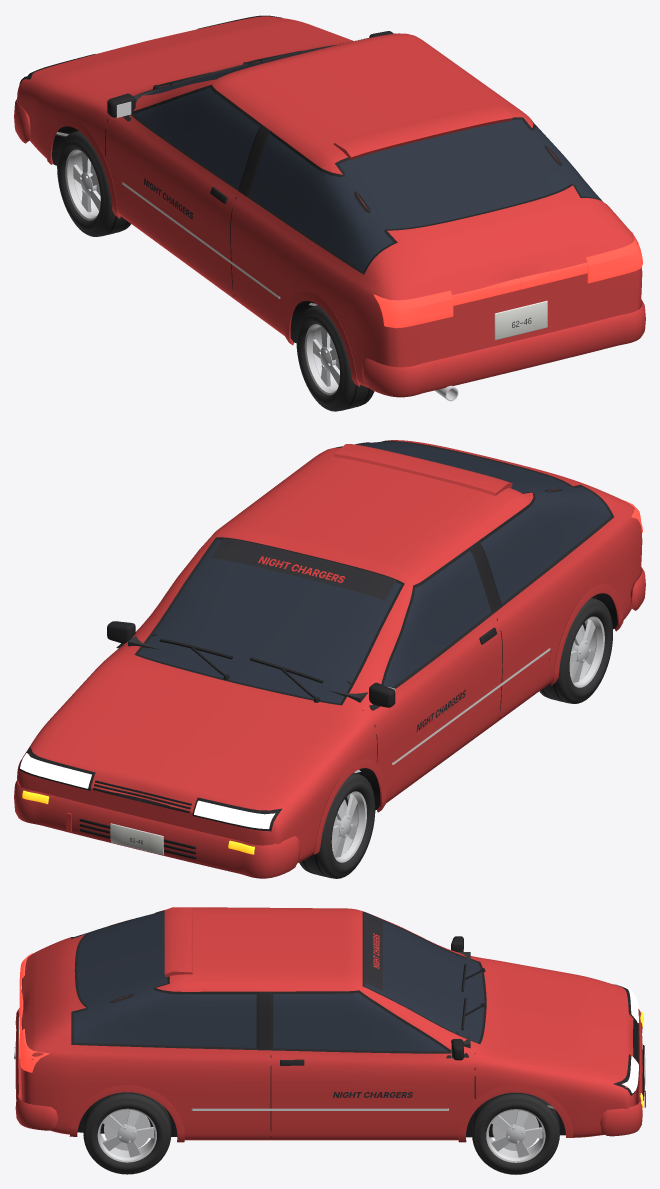
3 views of the same model, one above another, from view 1: azimuth 30°, elevation 25°; view 2: azimuth 150°, elevation 25°; view 3: azimuth 270°, elevation 25° (orthographic). The views are drawn at different scales.
Visible parts, largest first — view 1: Body, Wheel_RL, Wheel_FL; view 2: Body, Wheel_FL, Wheel_RL; view 3: Body, Wheel_RR, Wheel_FR.
Boxes of the visible parts, x1,y1,x2,y2 form: Body: (14,14,645,401); Wheel_RL: (296,305,374,411); Wheel_FL: (57,130,130,236); Body: (14,440,645,878); Wheel_FL: (299,772,375,878); Wheel_RL: (539,597,612,703); Body: (14,907,645,1142); Wheel_RR: (83,1092,171,1174); Wheel_FR: (472,1092,559,1174).
Size of the model in its own units: 1.77 by 1.36 by 4.18.
